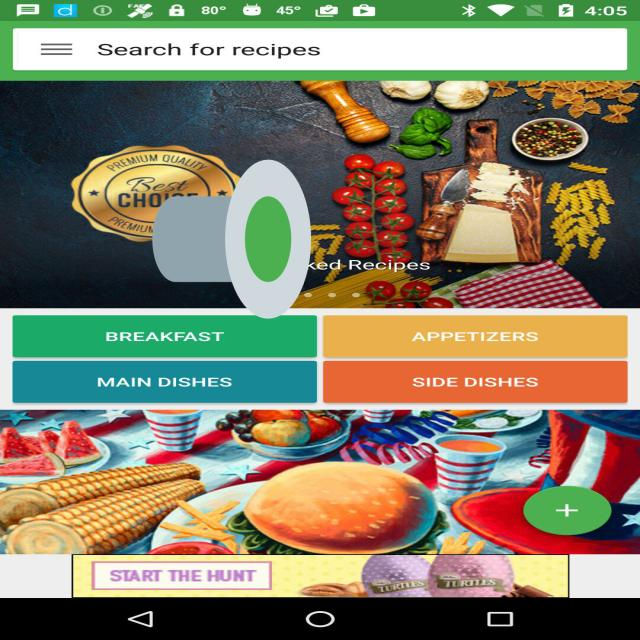social proof: (152, 92, 311, 386)
